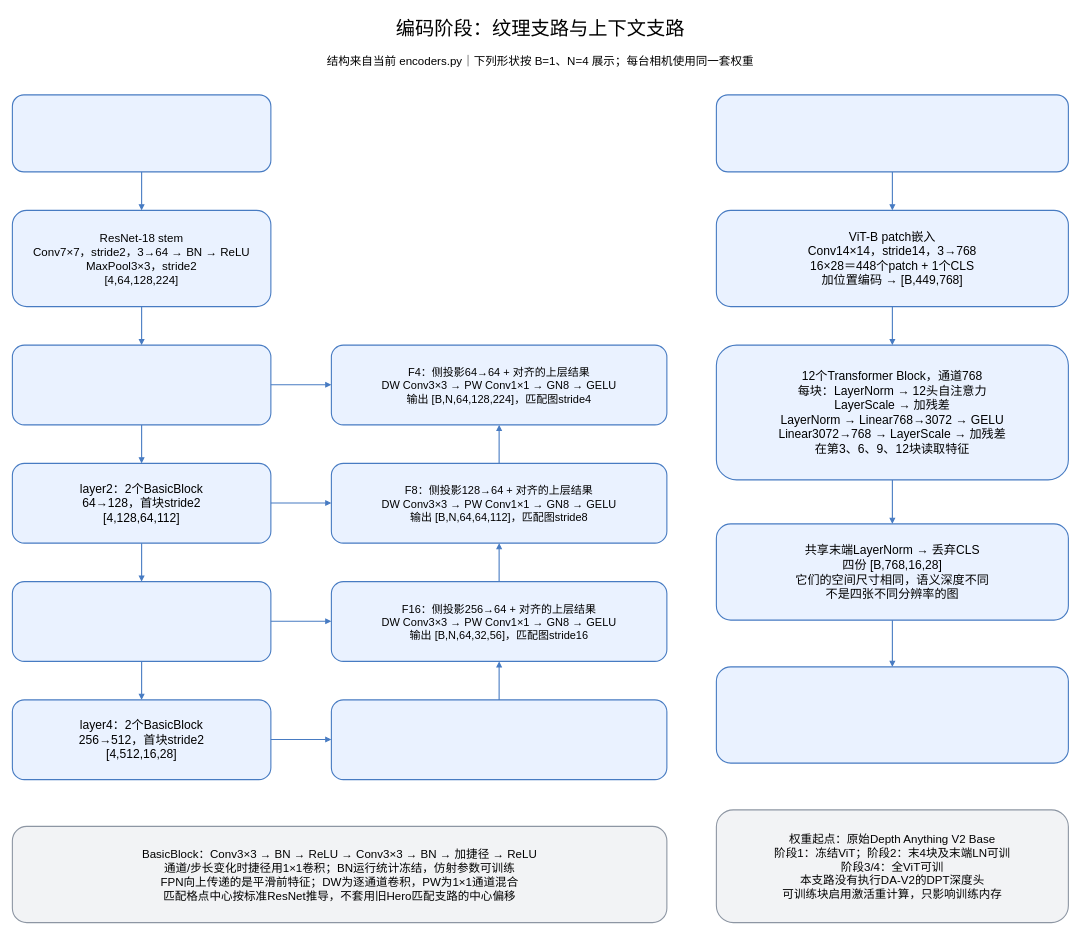
The diagram is 1080 pixels wide and 932 high, and some of its shapes have lost their labels. Each missing label, with the centre of its shape:
"layer1：2个BasicBlock 通道64，首块stride1 [4,64,128,224]" belongs at (x=141, y=384).
"layer3：2个BasicBlock 128→256，首块stride2 [4,256,32,56]" belongs at (x=141, y=621).
"匹配图：合并B和N [4,3,512,896] 掩码置零 → ImageNet归一化" belongs at (x=141, y=133).
"参考主图 [B,3,256,448] 掩码置零 → ImageNet归一化 按14/16缩放为 [B,3,224,392]" belongs at (x=892, y=133).
"四个独立raw_adapters 各Conv1×1：768→128 四份 [B,128,16,28] 粗/细阶段按主图patch中心7.5+16j对齐" belongs at (x=892, y=714).
"最深侧投影：Conv1×1，512→64 [4,64,16,28]，匹配图stride32 参与自顶向下融合，不作为第4张输出图" belongs at (x=499, y=739).
